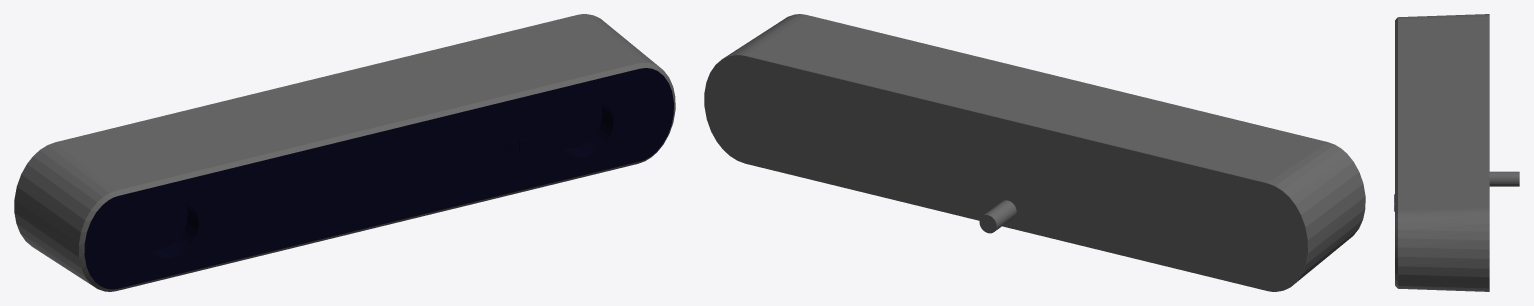
The model's file is Zed.fbx.
3 views of the same model, side by side, from view 1: azimuth 30°, elevation 25°; view 2: azimuth 150°, elevation 25°; view 3: azimuth 270°, elevation 25° (orthographic). The views are drawn at different scales.
Visible parts, largest first — view 1: ZED; view 2: ZED; view 3: ZED.
Boxes of the visible parts, x1=… form: ZED: x1=14, y1=14, x2=675, y2=291; ZED: x1=704, y1=14, x2=1365, y2=291; ZED: x1=1394, y1=14, x2=1519, y2=291.
Size of the model in its own units: 17.48 by 2.99 by 4.18.
